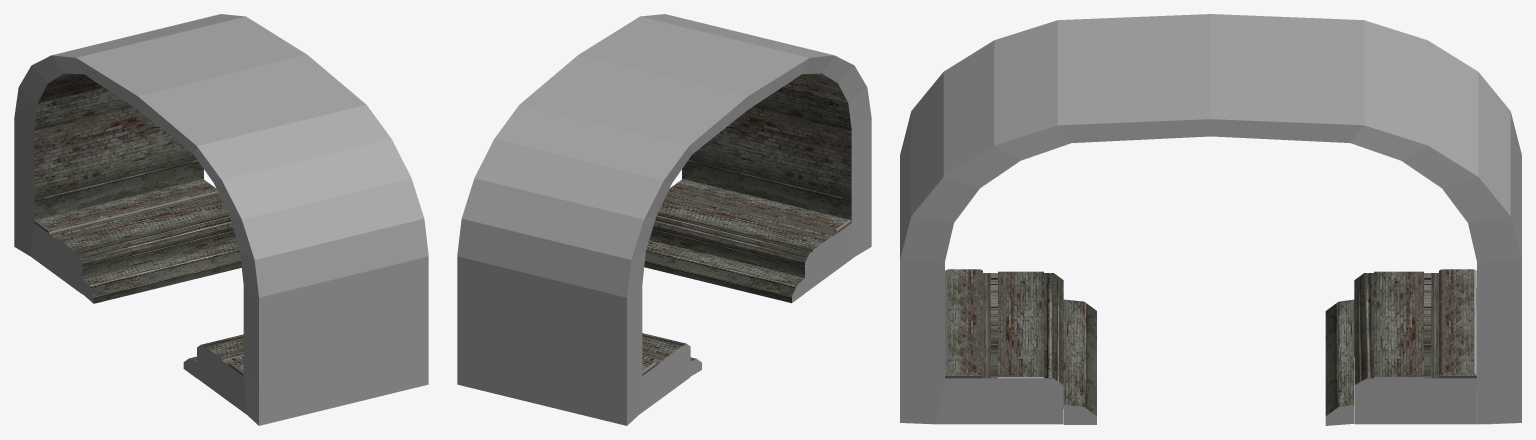
Rendered from SewerStraight 1.fbx.
3 views of the same model, side by side, from view 1: azimuth 30°, elevation 25°; view 2: azimuth 150°, elevation 25°; view 3: azimuth 270°, elevation 25° (orthographic). The views are drawn at different scales.
Parts seen in each view (by area): view 1: polySurface19; view 2: polySurface19; view 3: polySurface19.
Boxes of the visible parts, x1,y1,x2,y2 form: polySurface19: [14, 14, 428, 425]; polySurface19: [457, 14, 871, 425]; polySurface19: [900, 14, 1521, 425].
Size of the model in its own units: 4.62 by 6.17 by 11.36.
2 materials, 1 textured.
